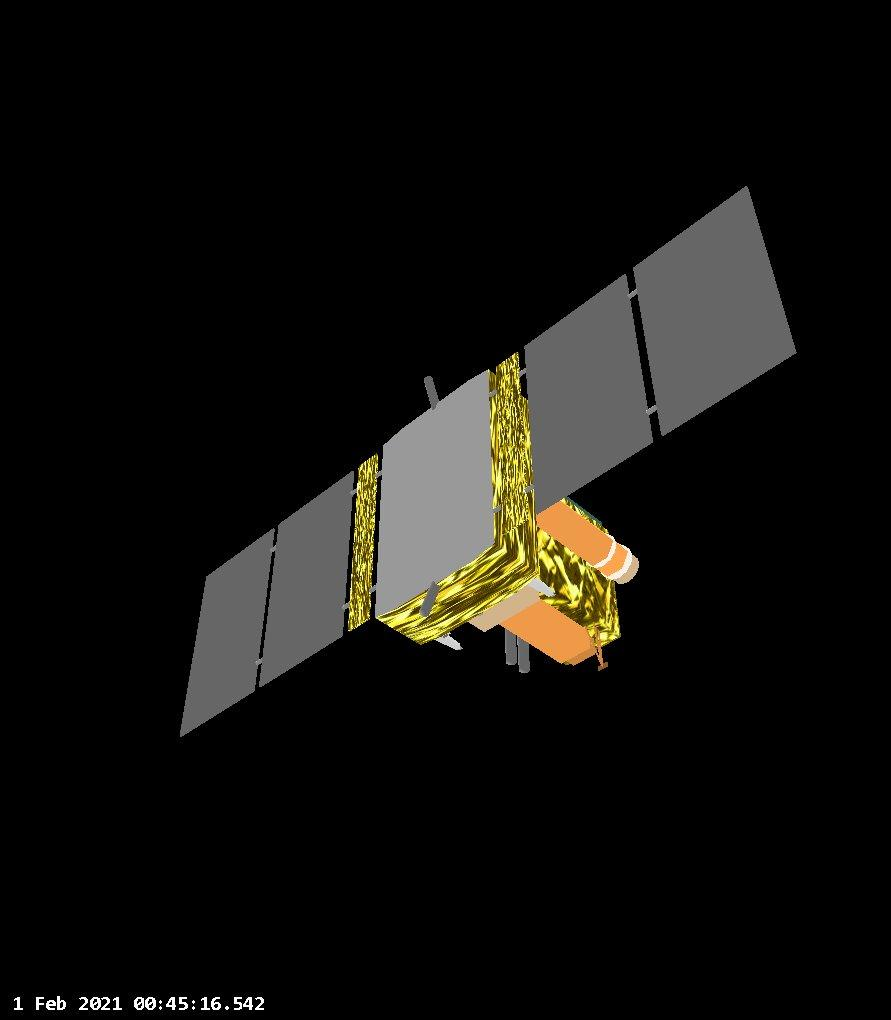body: (370, 346, 647, 678)
solar: (519, 180, 804, 514), (173, 462, 358, 741)
thruster: (426, 623, 467, 651), (419, 367, 445, 410), (514, 630, 537, 676), (589, 637, 612, 674), (502, 623, 519, 666)
